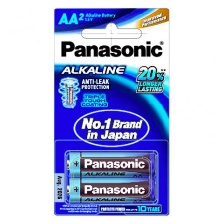battery: (63, 148, 157, 179), (65, 176, 158, 203)
book: (48, 4, 171, 219)
